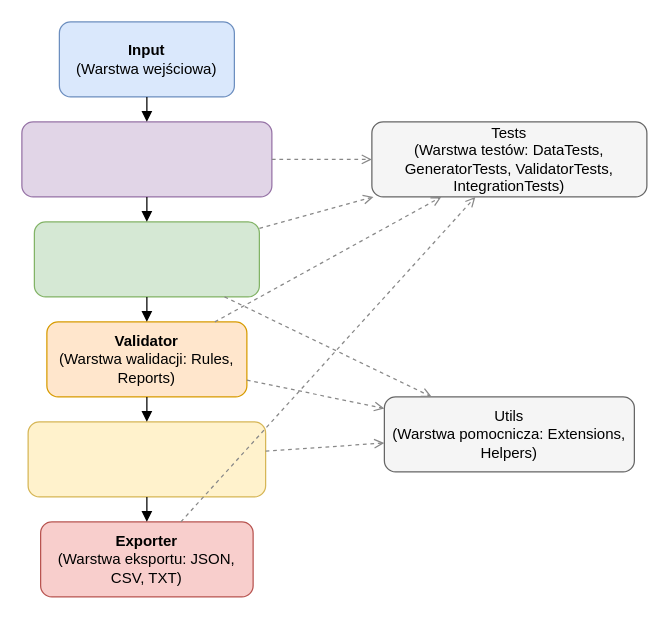
Some shapes in this 669 by 619 pixel diagram are drawn without their labels. Each missing label, with the centre of its shape:
Data (Warstwa logiki domenowej: Models, Enums, Constraints): pixel 146 159
Generator (Warstwa generowania: Algorithms, Variants): pixel 146 259
Presenter (Warstwa prezentacji: Formatters, Printers): pixel 146 459
